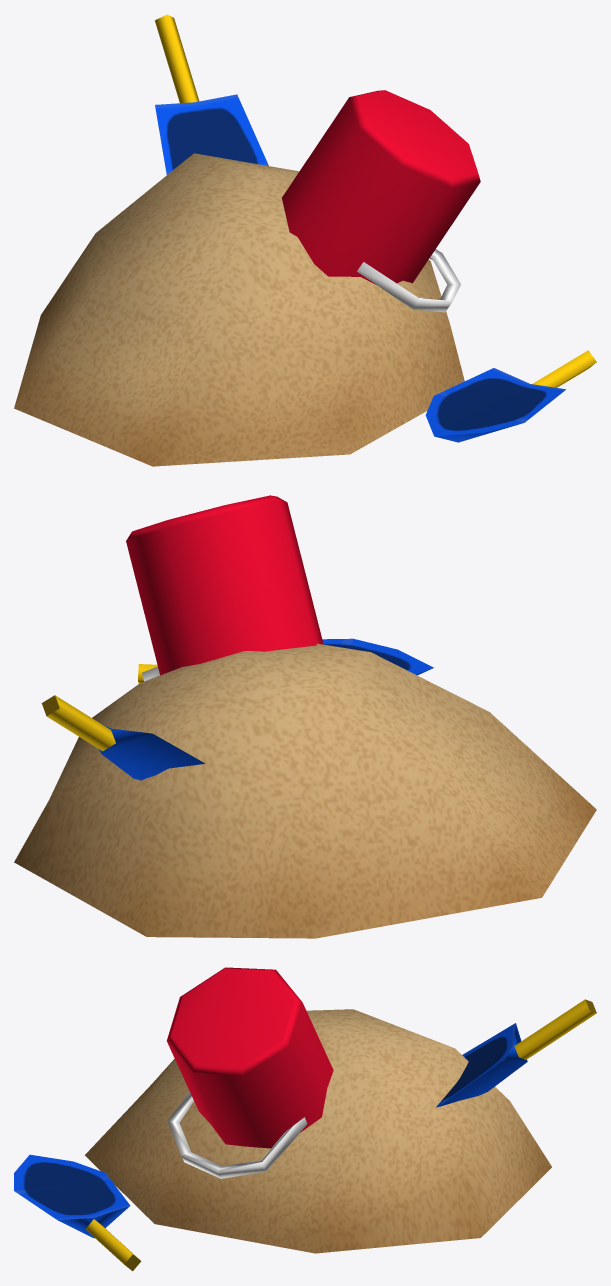
File: sandcastle.fbx
3 views of the same model, one above another, from view 1: azimuth 30°, elevation 25°; view 2: azimuth 150°, elevation 25°; view 3: azimuth 270°, elevation 25° (orthographic). The views are drawn at different scales.
Visible parts, largest first — view 1: sandcastle; view 2: sandcastle; view 3: sandcastle.
Part boxes in pixels (x1,y1,x2,y2): sandcastle: (14, 14, 596, 466); sandcastle: (14, 495, 596, 938); sandcastle: (14, 967, 596, 1271).
Size of the model in its own units: 9.08 by 4.79 by 10.64.
1 material, 1 textured.
